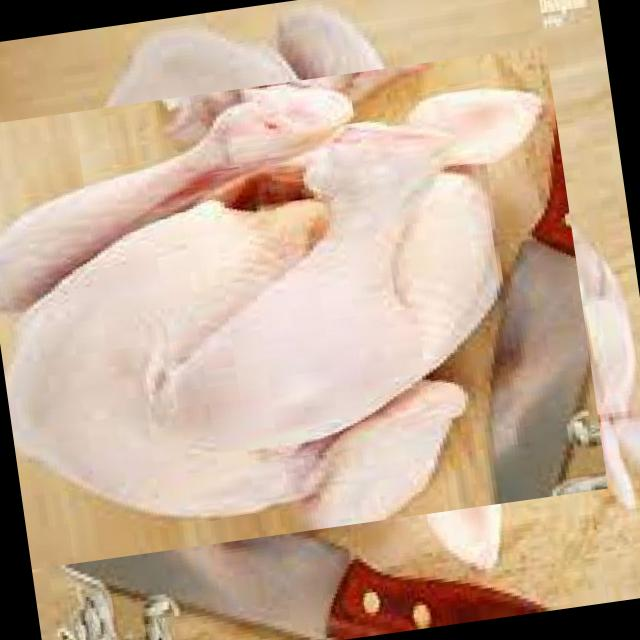chicken: (0, 13, 576, 604)
